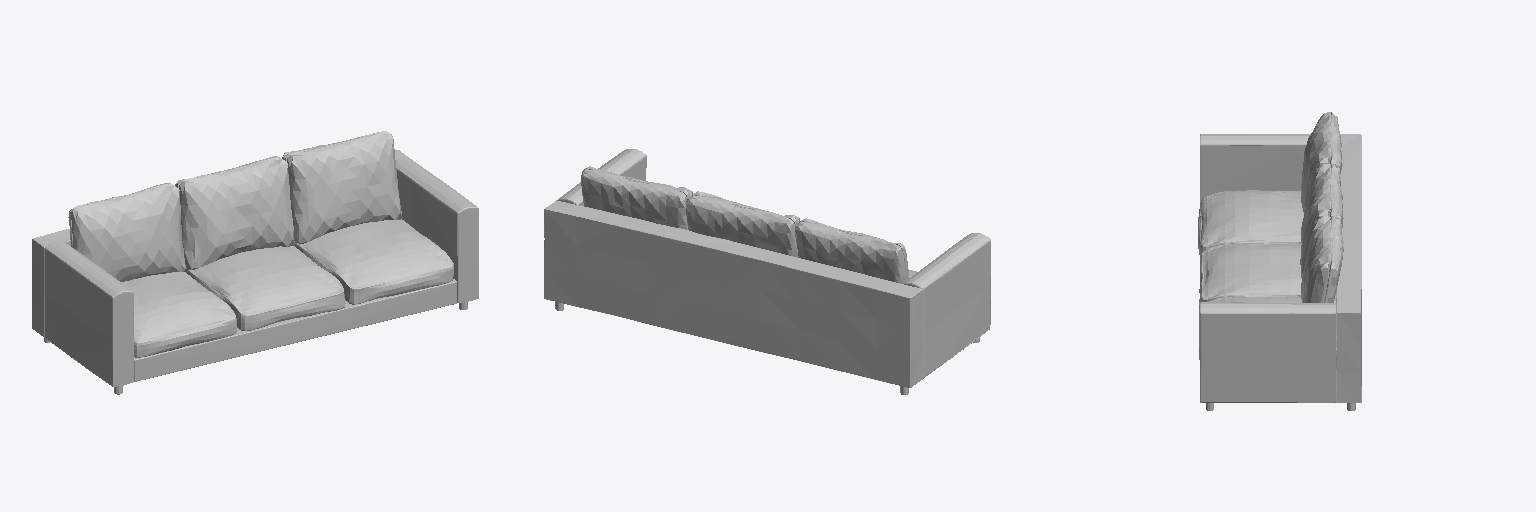
Rendered from Couch.obj.
The picture shows the model from 3 angles: view 1: azimuth 30°, elevation 25°; view 2: azimuth 150°, elevation 25°; view 3: azimuth 270°, elevation 25°; orthographic projection.
Parts seen in each view (by area): view 1: Plane.004_Plane.008; view 2: Plane.004_Plane.008; view 3: Plane.004_Plane.008.
Boxes of the visible parts, <box> form: Plane.004_Plane.008: <box>32,131,478,394</box>; Plane.004_Plane.008: <box>544,149,990,394</box>; Plane.004_Plane.008: <box>1198,112,1361,410</box>.
Size of the model in its own units: 3.41 by 1.23 by 1.32.